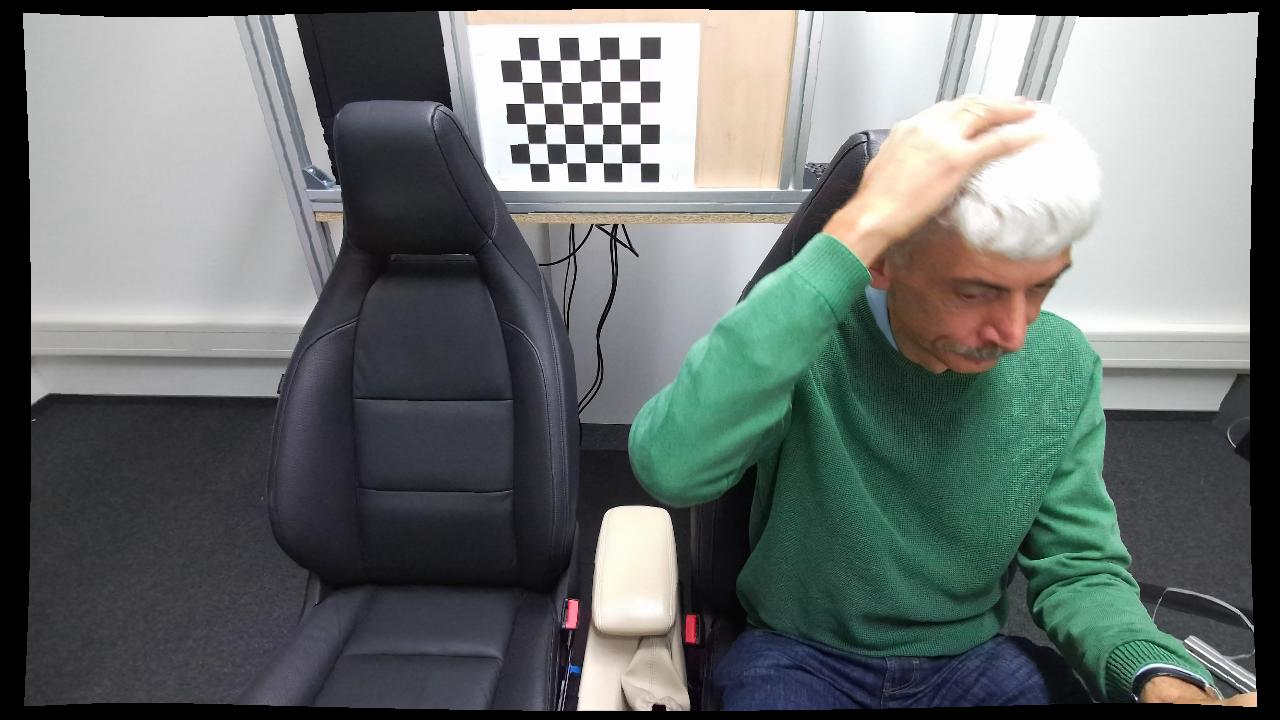Distracted: (628, 92, 1188, 710)
